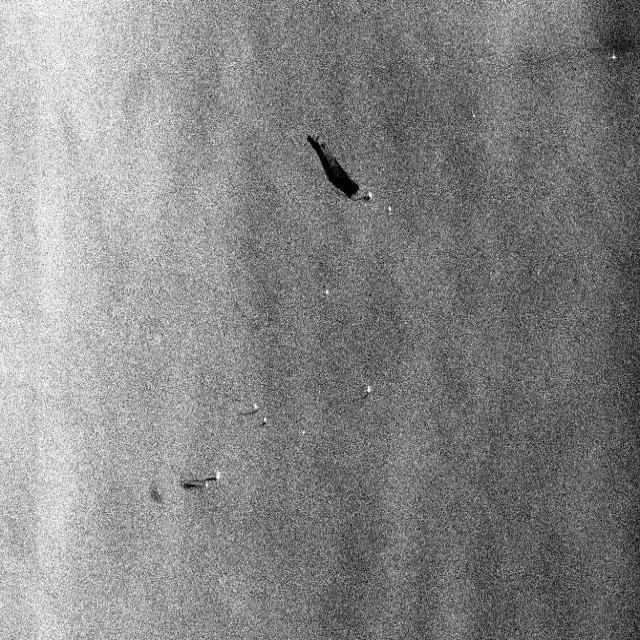oil-spill: (303, 127, 361, 210)
ship: (194, 466, 223, 496), (248, 393, 267, 429), (362, 182, 379, 215), (363, 375, 374, 404)
